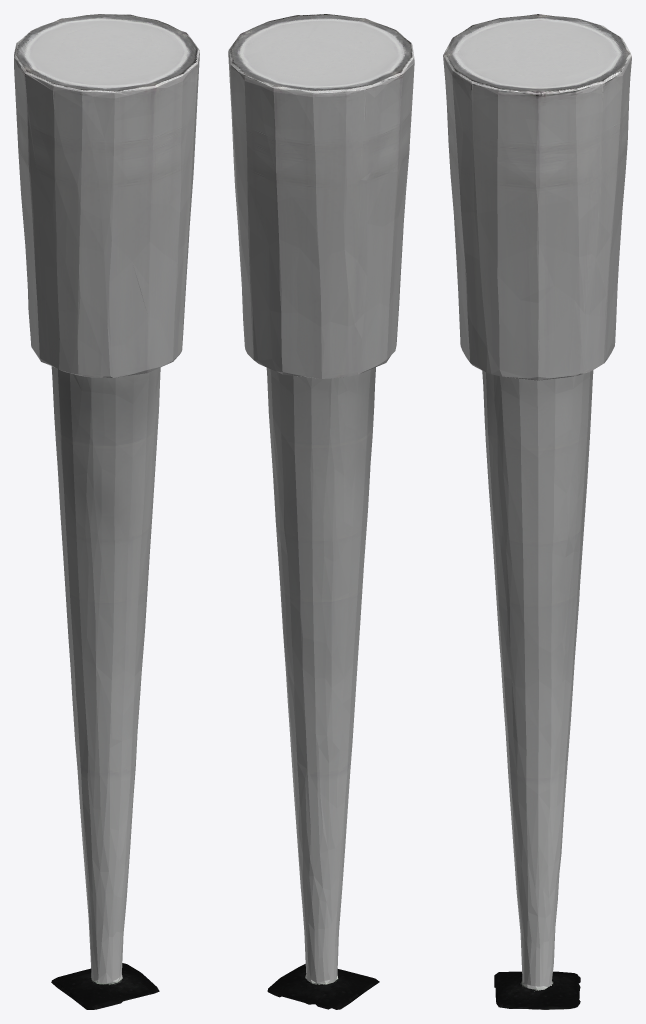
3 views of the same model, side by side, from view 1: azimuth 30°, elevation 25°; view 2: azimuth 150°, elevation 25°; view 3: azimuth 270°, elevation 25° (orthographic).
Visible parts, largest first — view 1: world; view 2: world; view 3: world.
Boxes of the visible parts, x1=… form: world: x1=14, y1=14, x2=199, y2=1009; world: x1=228, y1=14, x2=414, y2=1009; world: x1=443, y1=14, x2=631, y2=1009.
Size of the model in its own units: 0.1828 by 1 by 0.1826.
1 material, 1 textured.
